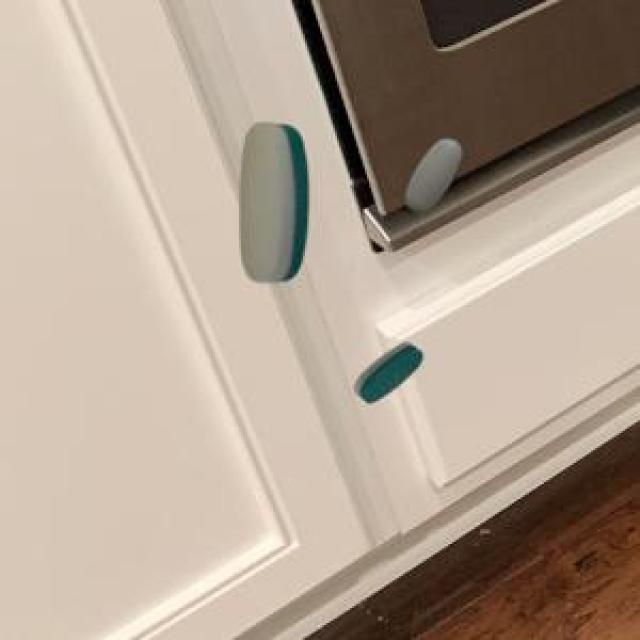Neozep: (228, 112, 317, 294), (396, 125, 474, 220), (350, 335, 432, 413)
